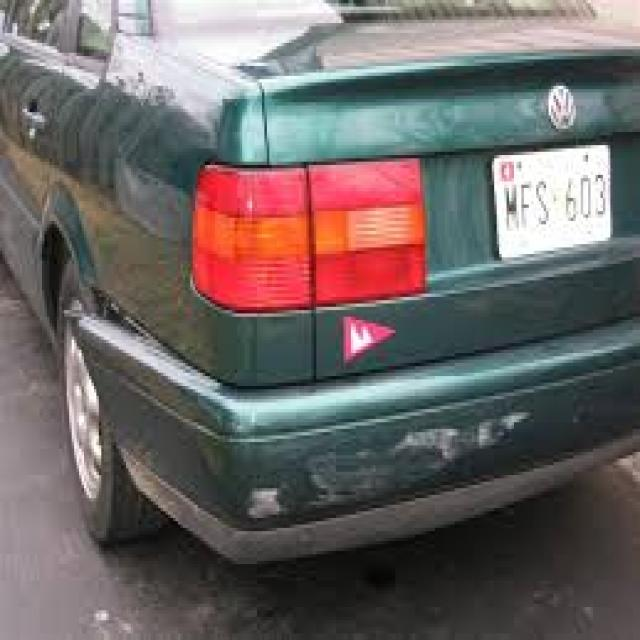minor: (256, 420, 535, 500)
